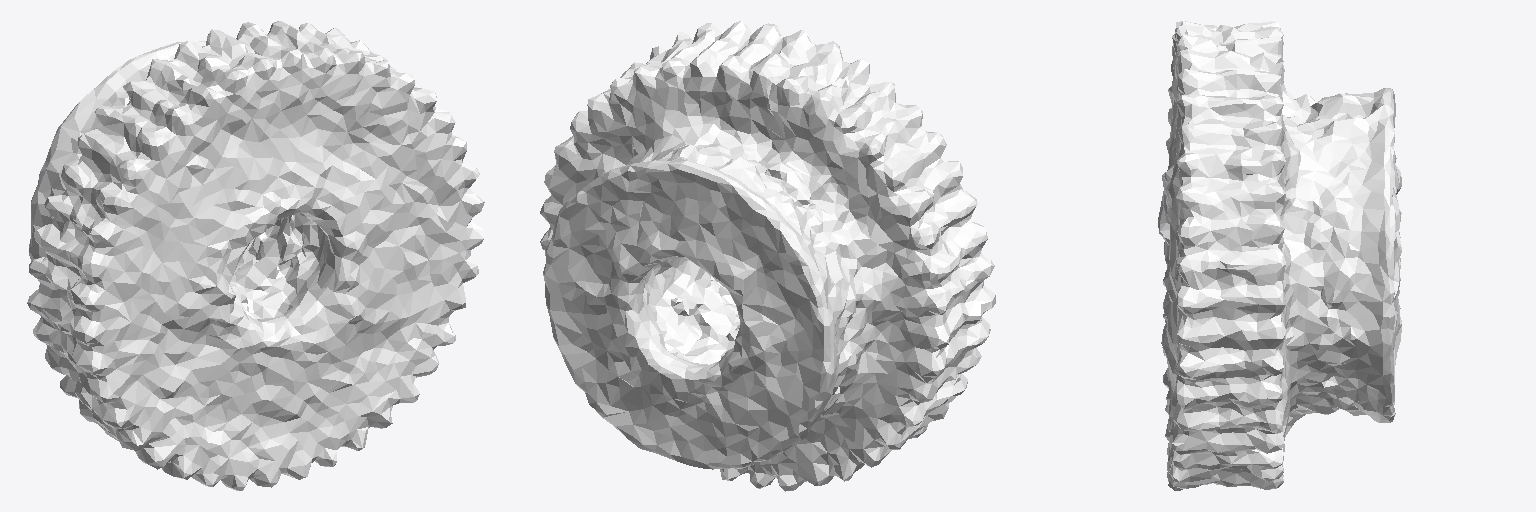
robot.urdf — atb1_gear-medium:
<?xml version="0.0" ?>
<robot name="atb1_gear-medium">
  <link name="baseLink">
    <contact>
      <friction_anchor/>
      <lateral_friction value="0.8"/>
      <spinning_friction value="0.001"/>
      <rolling_friction value="0.001"/>
      <contact_cfm value="0.0"/>
      <contact_erp value="0.2"/>
    </contact>
    <inertial>
       <origin rpy="0 0 0" xyz="0 0 0"/>
       <mass value="0.01"/>
       <inertia ixx="1e-3" ixy="0" ixz="0" iyy="1e-3" iyz="0" izz="1e-3"/>
    </inertial>
    <visual>
      <origin rpy="0 0 0" xyz="0 0 0"/>
      <geometry>
        <mesh filename="obj/fused_model.obj" scale="1 1 1"/>
      </geometry>
      <material name="white">
        <color rgba="1. 1. 1. 1."/>
      </material>
    </visual>
    <collision>
      <origin rpy="0 0 0" xyz="0 0 0"/>
      <geometry>
        <mesh filename="obj/fused_model.obj" scale="1 1 1"/>
      </geometry>
    </collision>
  </link>
</robot>

--- Facts derived from the render (not from the file) ---
Views: 3 orthographic renders of the robot side by side, from view 1: azimuth 30°, elevation 25°; view 2: azimuth 150°, elevation 25°; view 3: azimuth 270°, elevation 25°.
Model atb1_gear-medium with 1 links and 0 joints (none), rooted at baseLink, posed every joint at zero.
Visible links, largest first — view 1: baseLink; view 2: baseLink; view 3: baseLink.
Link boxes in pixels (<box>): baseLink: <box>27,21,484,490</box>; baseLink: <box>540,21,995,491</box>; baseLink: <box>1158,21,1401,490</box>.
Bounding box of the posed robot: 0.0417 × 0.0214 × 0.0413 m (x, y, z).
1 mesh visuals loaded from 1 distinct referenced files (1 OBJ).
